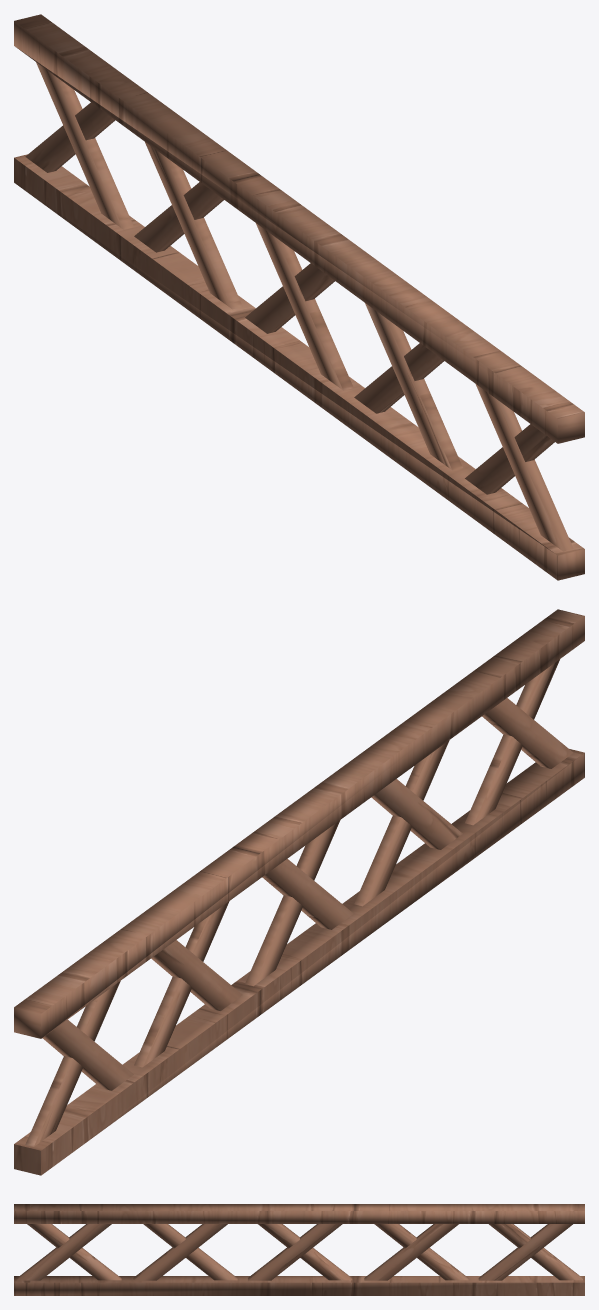
File: Fence.fbx
3 renders of one model, top to bottom at view 1: azimuth 30°, elevation 25°; view 2: azimuth 150°, elevation 25°; view 3: azimuth 270°, elevation 25°, orthographic. The views are drawn at different scales.
Parts seen in each view (by area): view 1: SM_wooden_grid_02.005; view 2: SM_wooden_grid_02.005; view 3: SM_wooden_grid_02.005.
Part boxes in pixels (x1,y1,x2,y2): SM_wooden_grid_02.005: (14, 14, 584, 580); SM_wooden_grid_02.005: (14, 609, 584, 1175); SM_wooden_grid_02.005: (14, 1204, 584, 1295).
Size of the model in its own units: 11.52 by 65.61 by 400.
